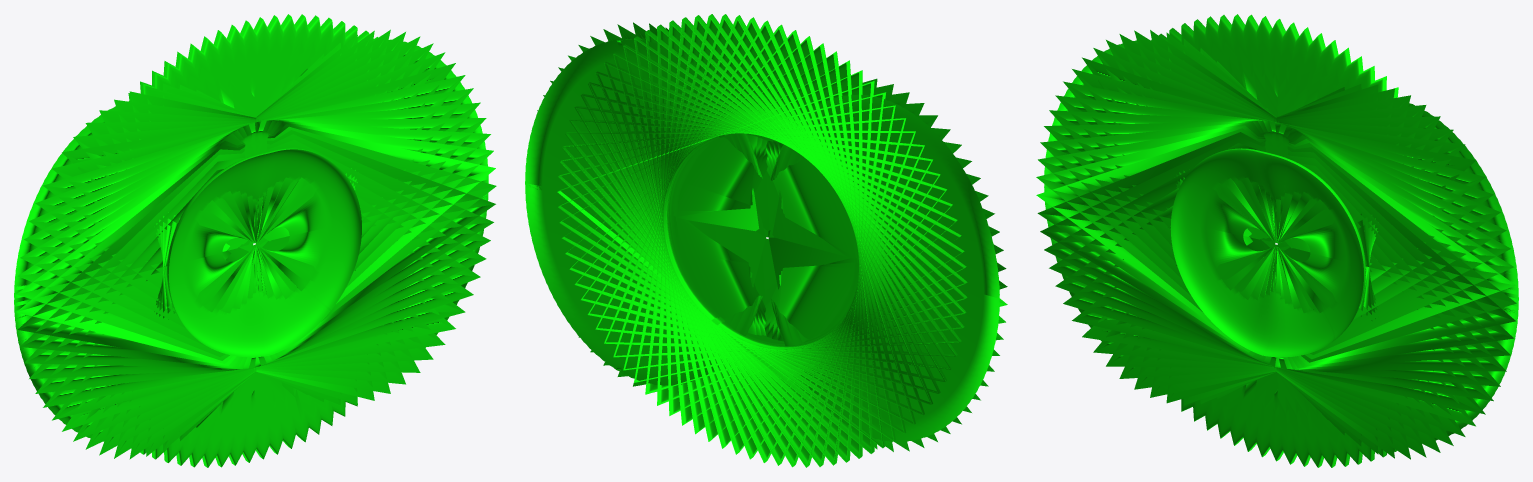
Rendered from ai-gan-adversarial-solid (6).glb.
The picture shows the model from 3 angles, left to right: view 1: azimuth 30°, elevation 25°; view 2: azimuth 150°, elevation 25°; view 3: azimuth 330°, elevation 25°; orthographic projection.
Parts seen in each view (by area): view 1: ai_gan_adversarial_solid (×2); view 2: ai_gan_adversarial_solid (×2); view 3: ai_gan_adversarial_solid (×2).
Part boxes in pixels (box(x1,y1,x2,y2)): ai_gan_adversarial_solid (×2): box(14, 14, 496, 467); ai_gan_adversarial_solid (×2): box(525, 14, 1007, 467); ai_gan_adversarial_solid (×2): box(1036, 14, 1518, 467).
Size of the model in its own units: 101 by 88.67 by 7.41.
